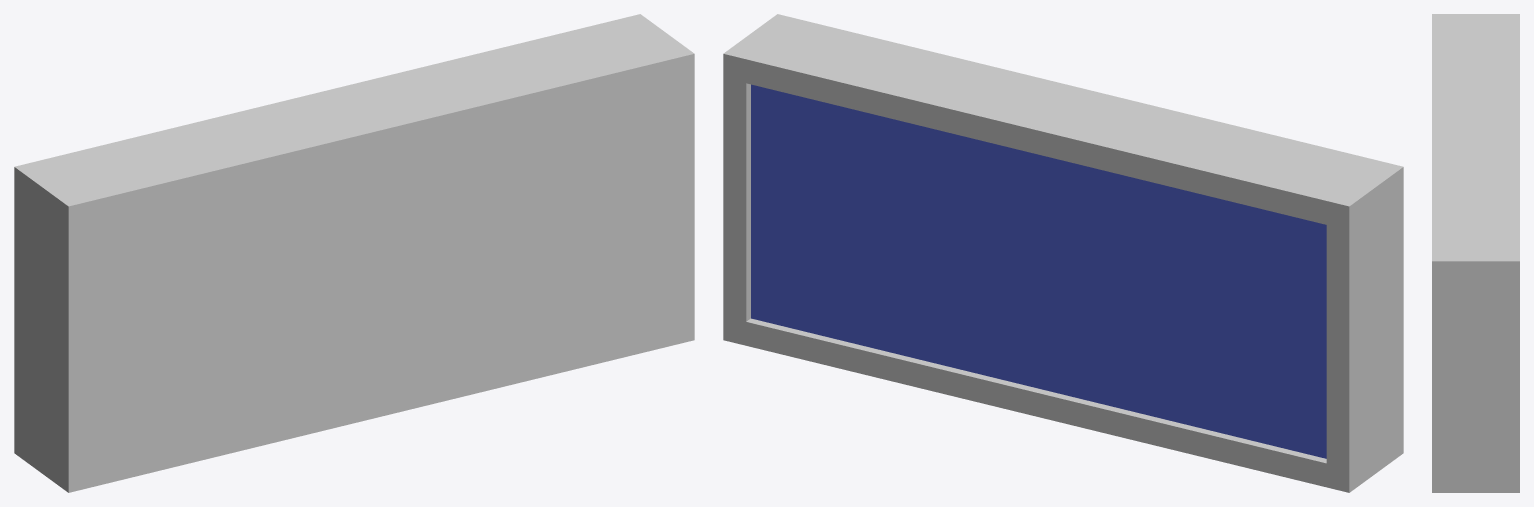
The model's file is model_sign_arrow_01.fbx.
3 renders of one model, left to right at view 1: azimuth 30°, elevation 25°; view 2: azimuth 150°, elevation 25°; view 3: azimuth 270°, elevation 25°, orthographic. The views are drawn at different scales.
Parts seen in each view (by area): view 1: Cube.007; view 2: Cube.007; view 3: Cube.007.
Boxes of the visible parts, left/top/right/bottom form: Cube.007: left=14, top=14, right=694, bottom=492; Cube.007: left=723, top=14, right=1403, bottom=492; Cube.007: left=1432, top=14, right=1519, bottom=492.
Bounding box in the file's own units: 59.22 × 25.89 × 8.89.
